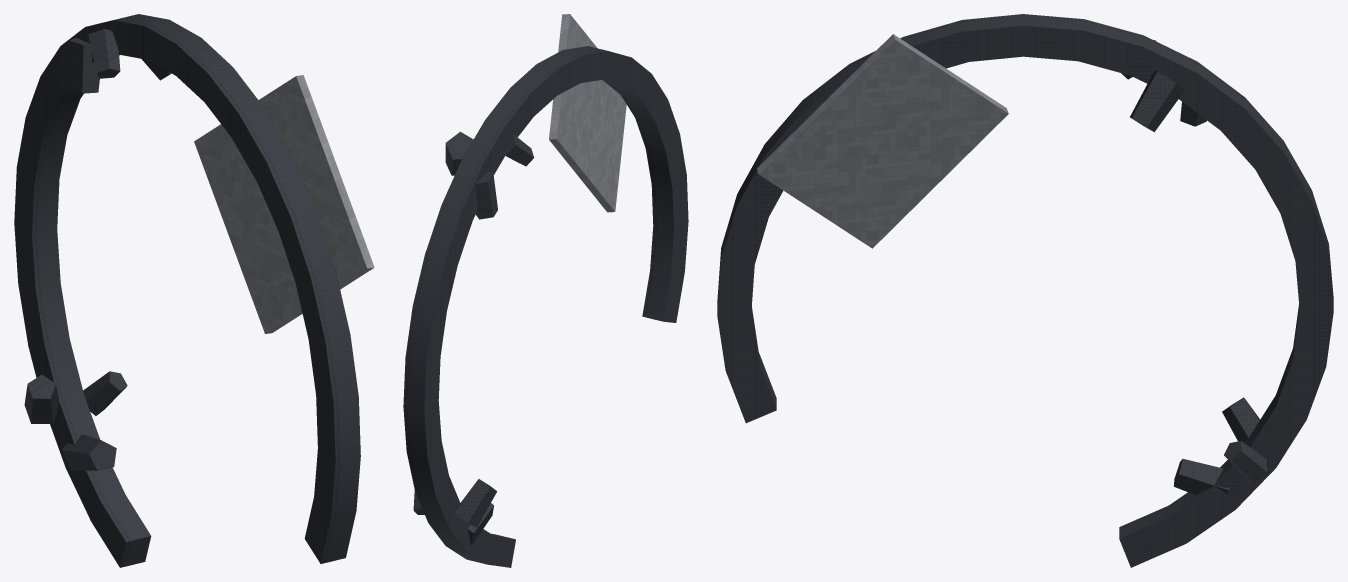
Rendered from deb_ore_freighter_ring_span.glb.
3 renders of one model, left to right at view 1: azimuth 30°, elevation 25°; view 2: azimuth 150°, elevation 25°; view 3: azimuth 270°, elevation 25°, orthographic. The views are drawn at different scales.
Visible parts, largest first — view 1: RingArc, Coaming, endA_rib0, endA_rib2, endB_rib2, endB_rib1, endA_rib1; view 2: RingArc, Coaming, endA_rib2, endB_rib2, endB_rib0, endB_rib1, endA_rib0; view 3: RingArc, Coaming, endB_rib0, endA_rib0, endA_rib1, endA_rib2.
Boxes of the visible parts, x1,y1,x2,y2 form: RingArc: (14,14,360,567); Coaming: (194,75,374,333); endA_rib0: (61,434,116,470); endA_rib2: (24,374,58,423); endB_rib2: (69,37,99,93); endB_rib1: (88,29,120,78); endA_rib1: (83,371,127,415); RingArc: (403,46,688,567); Coaming: (549,14,626,212); endA_rib2: (454,479,496,527); endB_rib2: (475,172,497,219); endB_rib0: (445,131,473,175); endB_rib1: (499,133,534,166); endA_rib0: (468,503,493,545); RingArc: (717,14,1333,567); Coaming: (757,34,1008,248); endB_rib0: (1130,70,1185,132); endA_rib0: (1173,459,1229,495); endA_rib1: (1224,441,1267,483); endA_rib2: (1222,397,1260,442).
Bounding box in the file's own units: 10.14 × 51.85 × 53.
2 materials, 2 textured.
